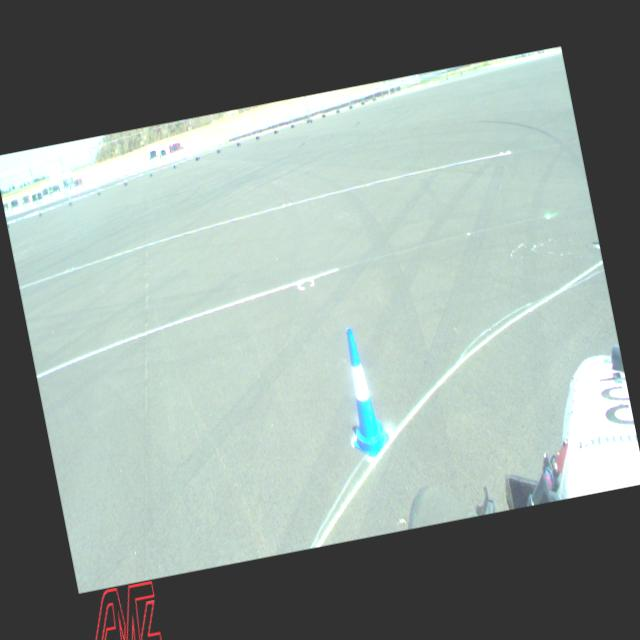blue_cone: (332, 324, 392, 462)
